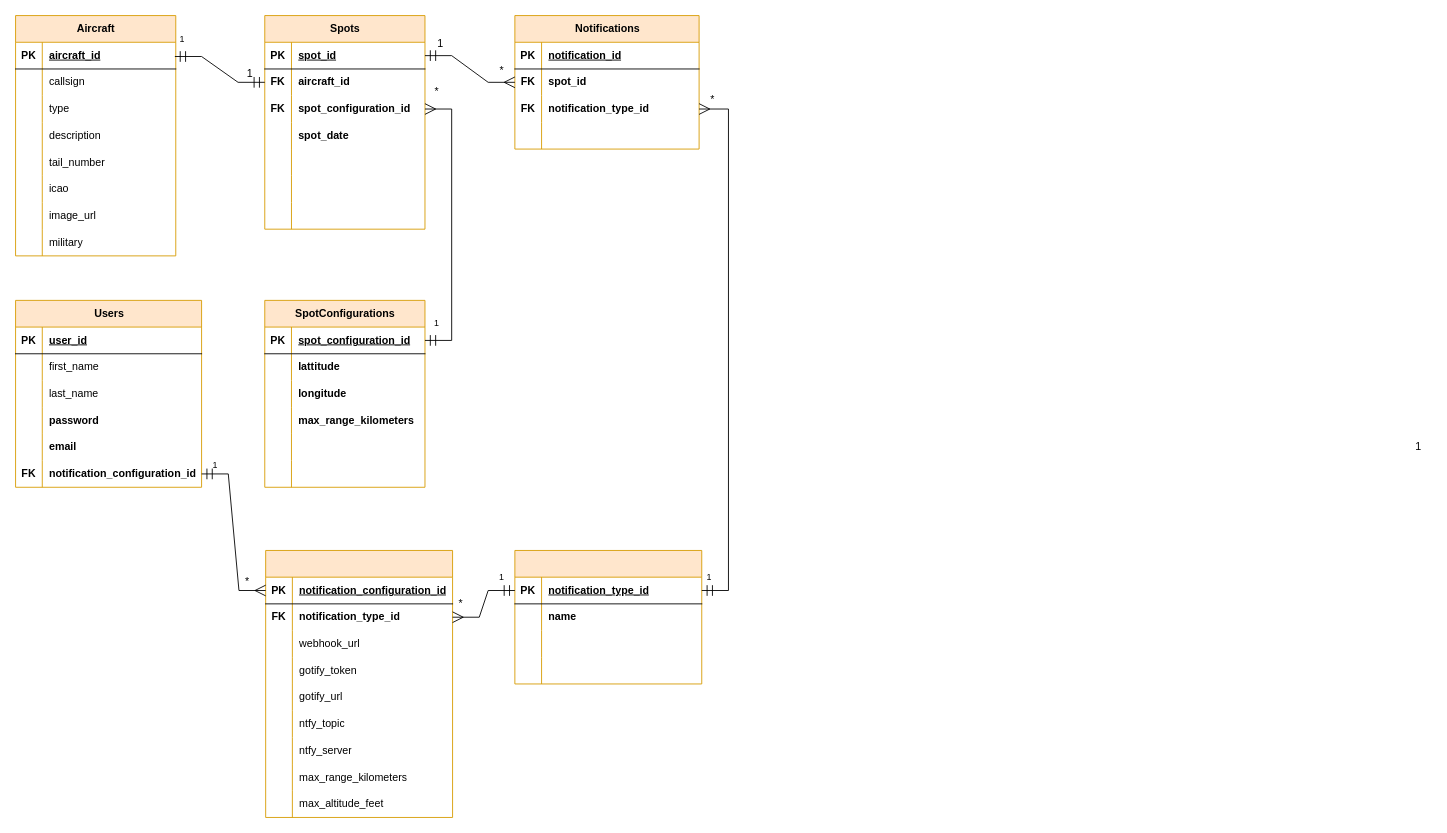
The diagram is 1447 pixels wide and 833 high, and some of its shapes have lost their labels. Here are the shapes that lost their labels. From the top down, the box of each, then its label:
(514, 550, 702, 684): NotificationTypes
(265, 550, 453, 817): NotificationConfigurations
